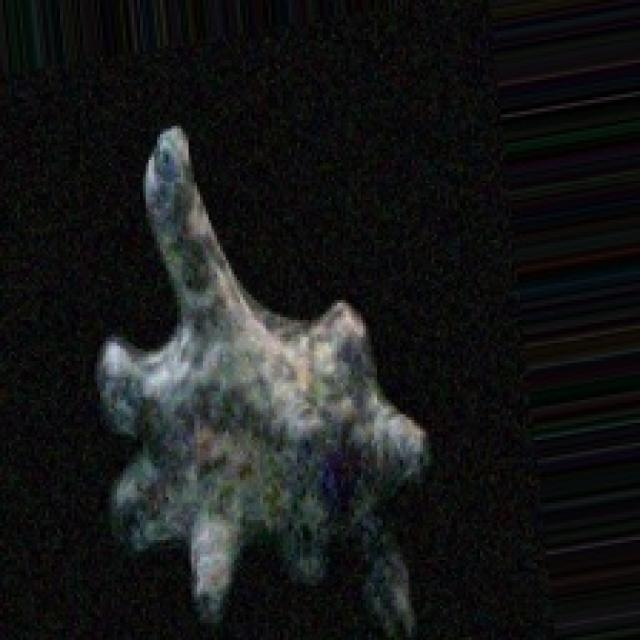Amoeba: (91, 123, 432, 637)
